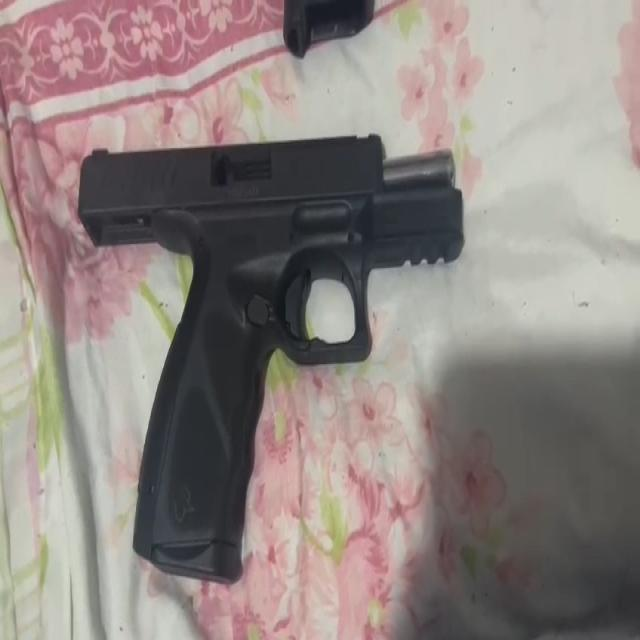gun: (76, 128, 472, 590)
